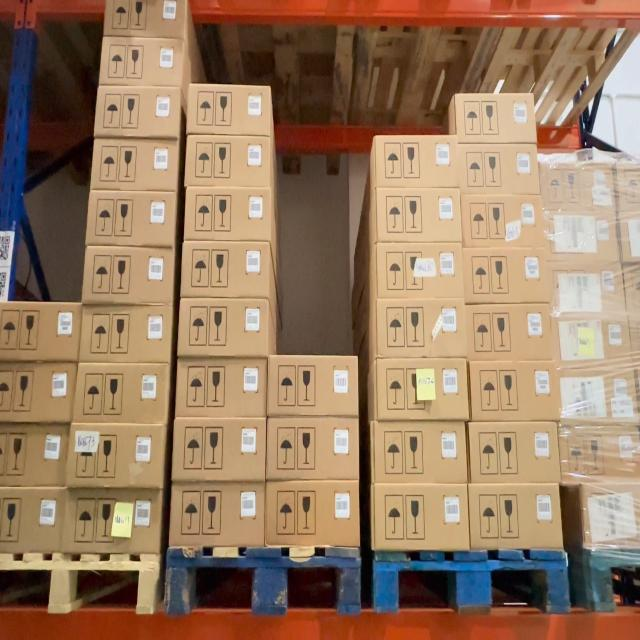box: (371, 482, 470, 550), (467, 482, 564, 551), (66, 422, 166, 487), (263, 479, 360, 546), (60, 490, 163, 552), (370, 418, 467, 483), (171, 418, 267, 482), (166, 482, 265, 544), (374, 359, 470, 422), (264, 417, 360, 480), (72, 364, 169, 425), (265, 354, 359, 416), (468, 422, 561, 484), (80, 304, 173, 364), (174, 357, 268, 416), (468, 361, 558, 422), (373, 299, 465, 358), (177, 298, 269, 357), (82, 247, 174, 305), (180, 241, 270, 299), (465, 304, 553, 362), (87, 190, 176, 247), (374, 242, 463, 299), (558, 425, 640, 486), (375, 187, 461, 244), (555, 367, 639, 425), (182, 188, 271, 242), (90, 139, 179, 193), (460, 192, 545, 248), (462, 247, 548, 302), (549, 310, 633, 366), (185, 83, 271, 137), (92, 86, 181, 137), (183, 135, 270, 187), (374, 136, 458, 189), (545, 258, 626, 311), (453, 91, 537, 142), (98, 35, 184, 84), (457, 143, 540, 193), (543, 210, 622, 261), (540, 162, 617, 213)
